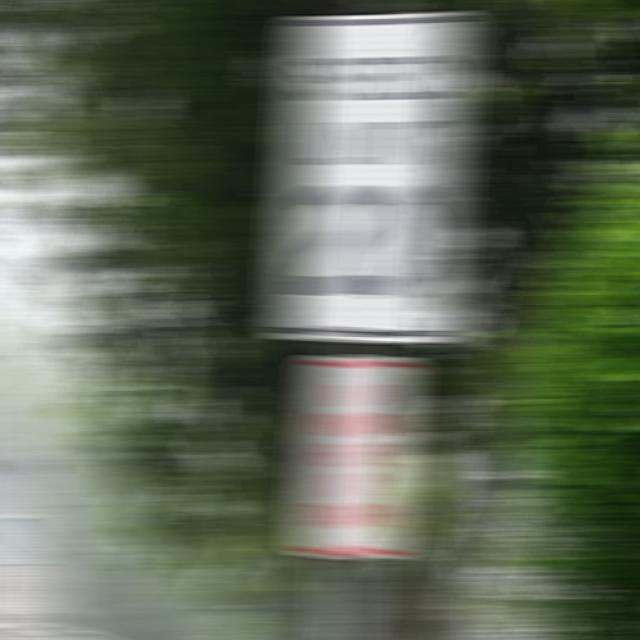speedLimit20: (274, 11, 466, 347)
